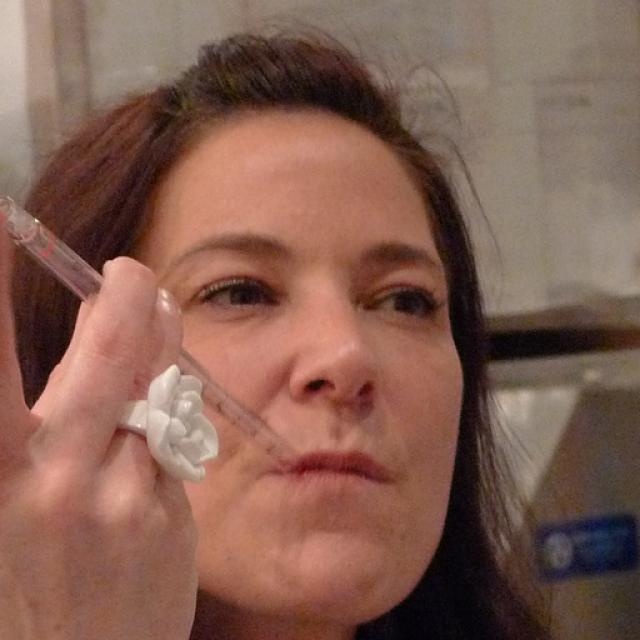neutral: (148, 93, 466, 618)
